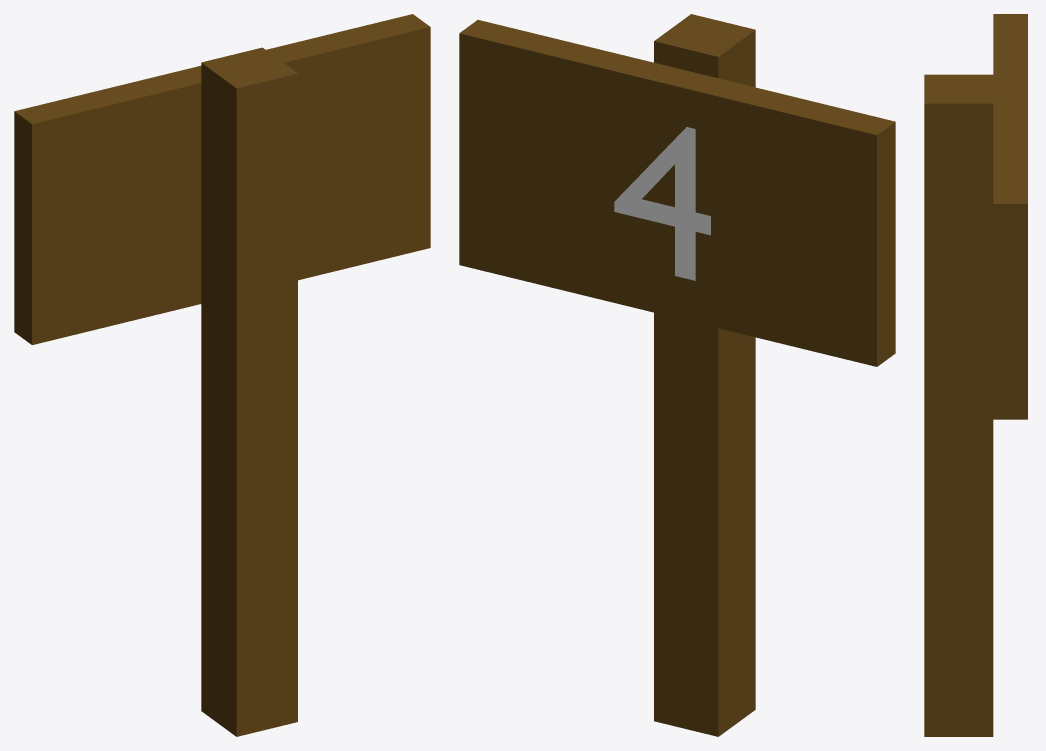
Rendered from Planknomor4.fbx.
The picture shows the model from 3 angles, left to right: view 1: azimuth 30°, elevation 25°; view 2: azimuth 150°, elevation 25°; view 3: azimuth 270°, elevation 25°; orthographic projection. The views are drawn at different scales.
Parts seen in each view (by area): view 1: Cube.004; view 2: Cube.004, Text.003; view 3: Cube.004.
Part boxes in pixels (x1=…): Cube.004: x1=14, y1=14, x2=430, y2=736; Cube.004: x1=459, y1=14, x2=895, y2=736; Text.003: x1=614, y1=127, x2=710, y2=280; Cube.004: x1=924, y1=14, x2=1027, y2=736.
Size of the model in its own units: 199 by 309 by 47.66.
